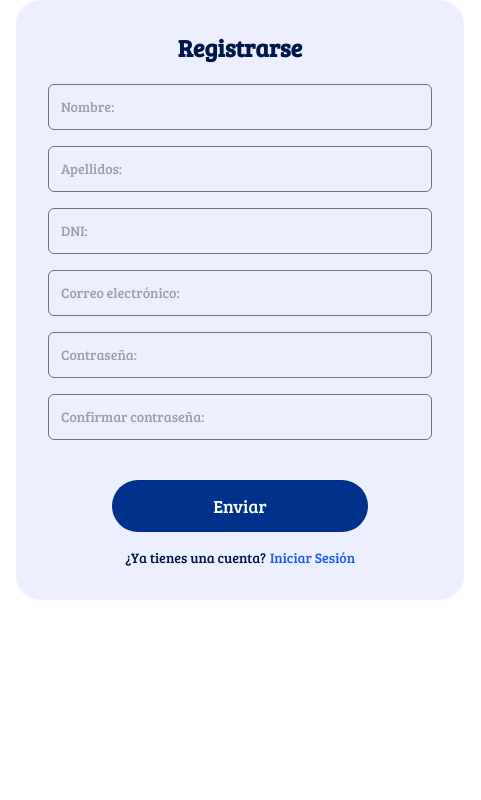
Test: Formulario de registro › debería mostrar errores si se envía el formulario vacío
Click the button "Enviar". click: x=240, y=506
box: 112,480 -> 368,532
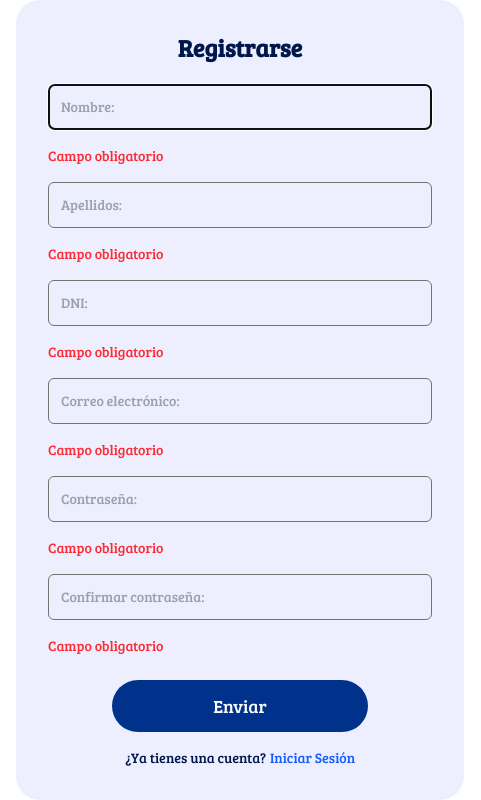
Check: the 1st text "Campo obligatorio" is shown, box 48,146 -> 164,165
